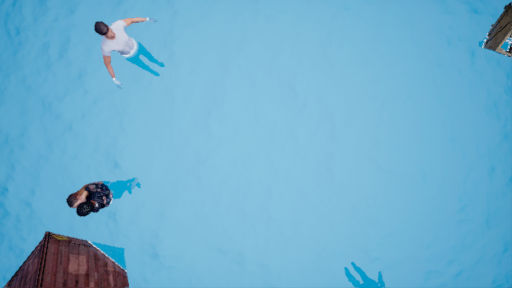person: (85, 9, 164, 81), (60, 171, 148, 221)
